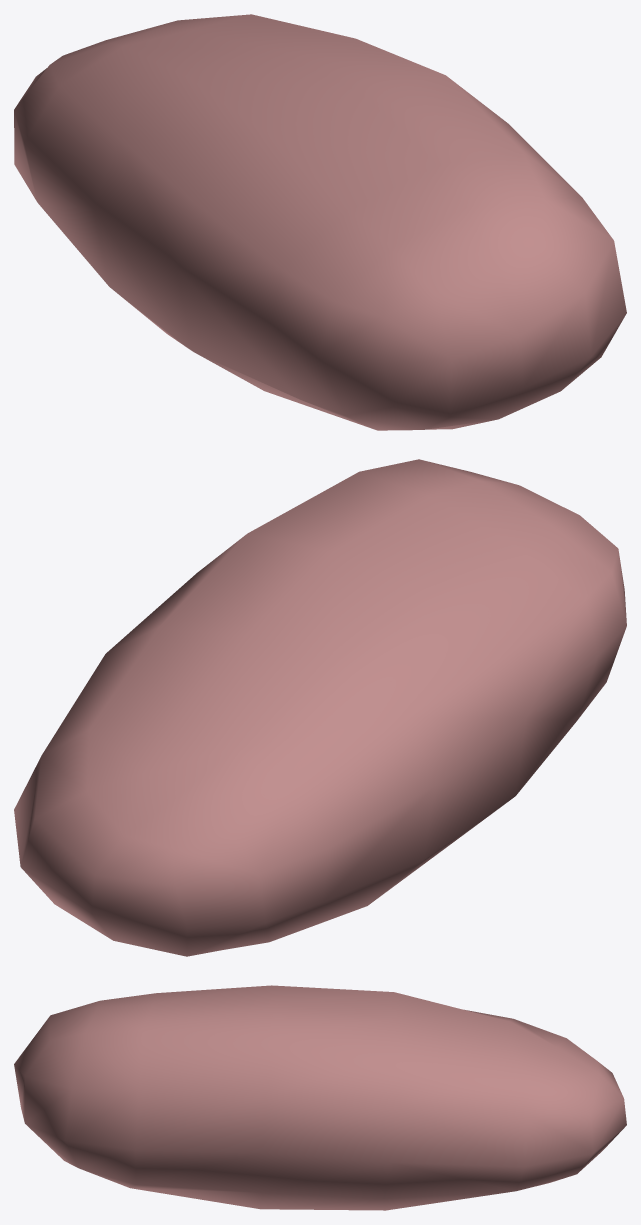
The model's file is SM_RocksRound_02.fbx.
The picture shows the model from 3 angles, top to bottom: view 1: azimuth 30°, elevation 25°; view 2: azimuth 150°, elevation 25°; view 3: azimuth 270°, elevation 25°; orthographic projection. The views are drawn at different scales.
Visible parts, largest first — view 1: SM_RocksRound_02; view 2: SM_RocksRound_02; view 3: SM_RocksRound_02.
Boxes of the visible parts, x1,y1,x2,y2 form: SM_RocksRound_02: (14, 14, 626, 430); SM_RocksRound_02: (14, 459, 626, 956); SM_RocksRound_02: (14, 985, 626, 1210).
Bounding box in the file's own units: 90.68 × 69.7 × 196.
